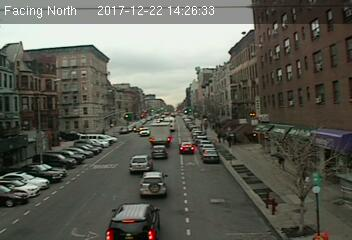car: (105, 204, 161, 240), (138, 171, 169, 196), (129, 155, 151, 173), (150, 144, 167, 159), (202, 149, 219, 163), (178, 140, 194, 153), (139, 127, 150, 137)
truck: (149, 121, 172, 146)
